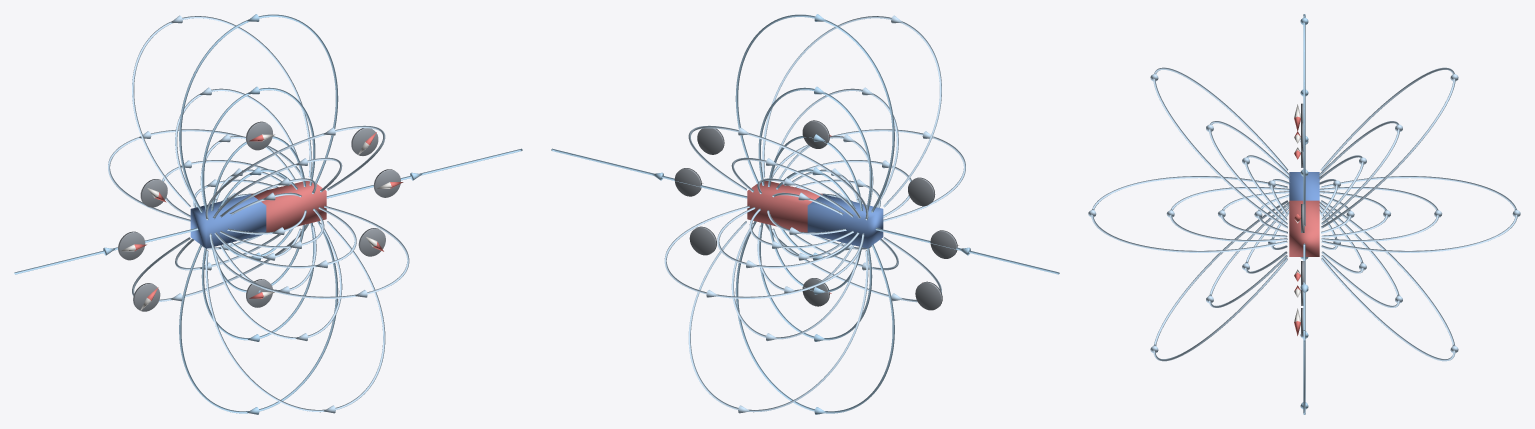
The model's file is bar_magnet.glb.
3 renders of one model, left to right at view 1: azimuth 30°, elevation 25°; view 2: azimuth 150°, elevation 25°; view 3: azimuth 270°, elevation 25°, orthographic. The views are drawn at different scales.
Visible parts, largest first — view 1: field_all_round, field_lines, compass, south_pole, north_pole, needle_south; view 2: field_all_round, field_lines, compass, south_pole, north_pole; view 3: field_all_round, north_pole, field_lines, south_pole, compass.
Boxes of the visible parts, x1,y1,x2,y2 form: field_all_round: [108, 15, 409, 413]; field_lines: [14, 14, 522, 414]; compass: [118, 121, 400, 311]; south_pole: [190, 194, 266, 248]; north_pole: [251, 181, 326, 232]; needle_south: [121, 134, 391, 310]; field_all_round: [664, 15, 965, 413]; field_lines: [551, 14, 1059, 414]; compass: [674, 120, 957, 310]; south_pole: [807, 194, 883, 248]; north_pole: [747, 181, 822, 232]; field_all_round: [1088, 67, 1520, 361]; north_pole: [1289, 200, 1319, 256]; field_lines: [1300, 14, 1308, 414]; south_pole: [1289, 172, 1319, 200]; compass: [1301, 103, 1304, 336].
Size of the model in its own units: 0.3375 by 0.2544 by 0.2544.
